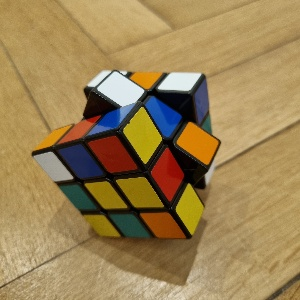cube: (31, 70, 222, 241)
